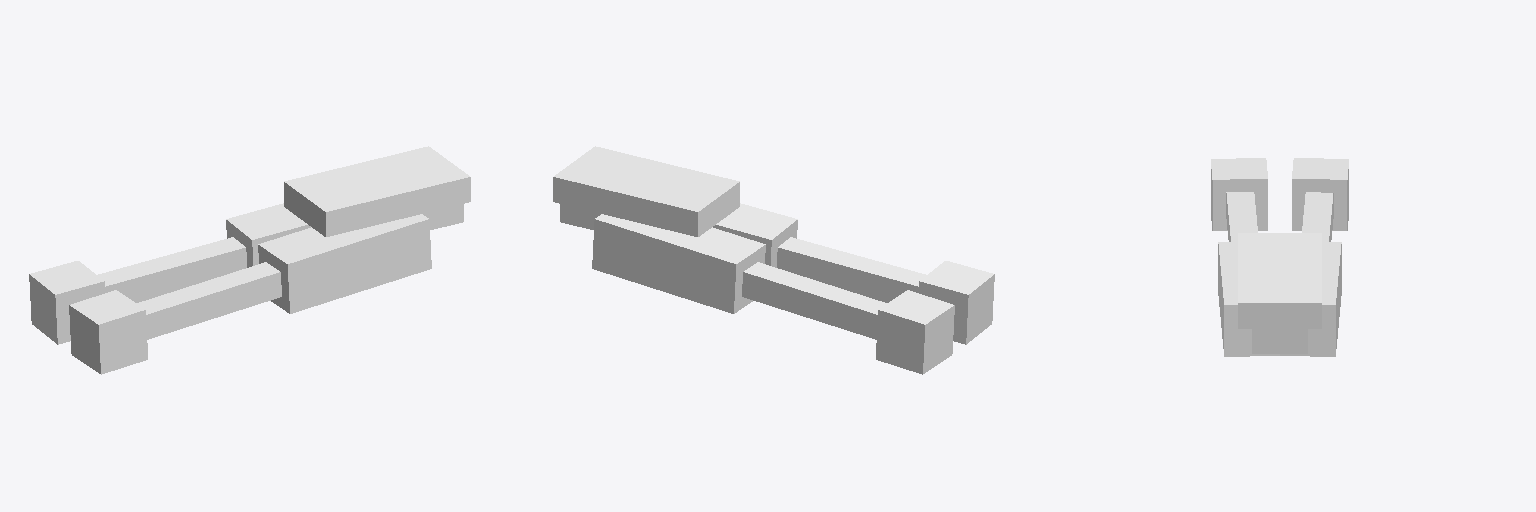
Rendered from bipod.obj.
3 renders of one model, left to right at view 1: azimuth 30°, elevation 25°; view 2: azimuth 150°, elevation 25°; view 3: azimuth 270°, elevation 25°, orthographic.
Parts seen in each view (by area): view 1: Shape1, Shape3, Shape7, Shape8, Shape5, Shape6, Shape2, Shape4; view 2: Shape1, Shape2, Shape5, Shape6, Shape7, Shape8, Shape3, Shape4; view 3: Shape1, Shape6, Shape8, Shape2, Shape3, Shape4, Shape7, Shape5.
Boxes of the visible parts, x1=… form: Shape1: x1=284, y1=146, x2=470, y2=236; Shape3: x1=258, y1=214, x2=431, y2=313; Shape7: x1=137, y1=262, x2=281, y2=339; Shape8: x1=69, y1=290, x2=147, y2=374; Shape5: x1=97, y1=237, x2=246, y2=302; Shape6: x1=29, y1=261, x2=104, y2=344; Shape2: x1=226, y1=203, x2=310, y2=267; Shape4: x1=423, y1=204, x2=463, y2=229; Shape1: x1=553, y1=146, x2=739, y2=236; Shape2: x1=592, y1=214, x2=765, y2=313; Shape5: x1=742, y1=262, x2=886, y2=339; Shape6: x1=876, y1=290, x2=954, y2=374; Shape7: x1=777, y1=237, x2=926, y2=302; Shape8: x1=919, y1=261, x2=994, y2=344; Shape3: x1=713, y1=203, x2=797, y2=267; Shape4: x1=560, y1=204, x2=600, y2=229; Shape1: x1=1238, y1=233, x2=1321, y2=328; Shape6: x1=1292, y1=158, x2=1348, y2=230; Shape8: x1=1211, y1=158, x2=1267, y2=230; Shape2: x1=1280, y1=242, x2=1341, y2=356; Shape3: x1=1218, y1=242, x2=1279, y2=356; Shape4: x1=1252, y1=329, x2=1307, y2=353; Shape7: x1=1226, y1=192, x2=1257, y2=241; Shape5: x1=1302, y1=192, x2=1333, y2=241.
Size of the model in its own units: 1 by 0.2333 by 0.3111.